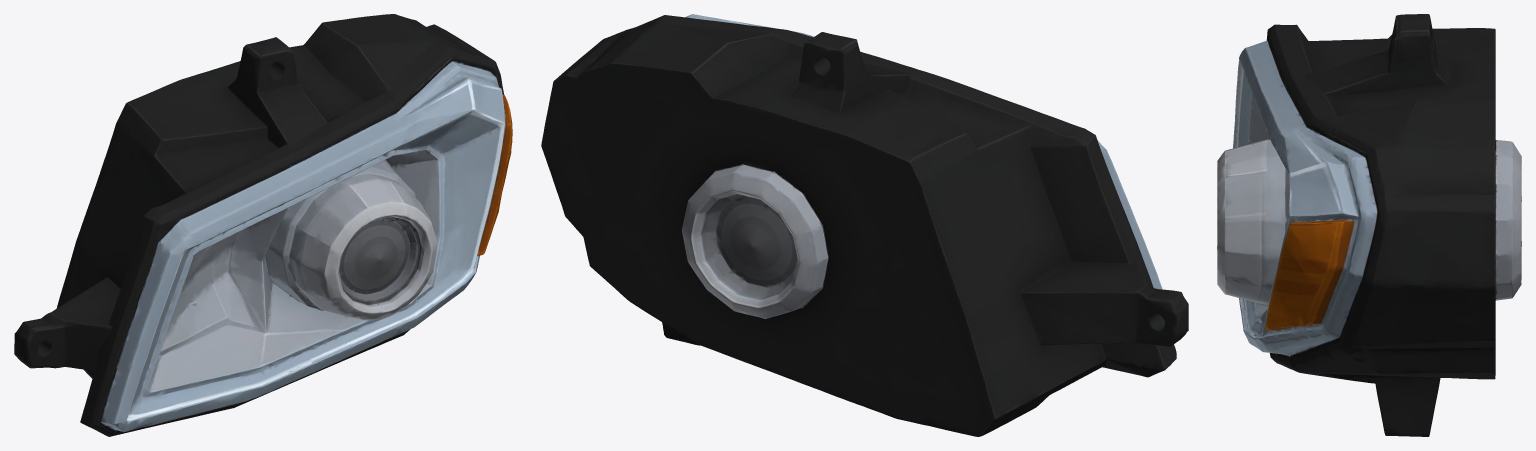
The model's file is headlight_1k_real.glb.
3 renders of one model, left to right at view 1: azimuth 30°, elevation 25°; view 2: azimuth 150°, elevation 25°; view 3: azimuth 270°, elevation 25°, orthographic. The views are drawn at different scales.
Visible parts, largest first — view 1: tripo_node_4f78ad78-5e46-4cca-8aff-948f0df2abd8; view 2: tripo_node_4f78ad78-5e46-4cca-8aff-948f0df2abd8; view 3: tripo_node_4f78ad78-5e46-4cca-8aff-948f0df2abd8.
Part boxes in pixels (x1,y1,x2,y2): tripo_node_4f78ad78-5e46-4cca-8aff-948f0df2abd8: [14, 14, 512, 436]; tripo_node_4f78ad78-5e46-4cca-8aff-948f0df2abd8: [541, 14, 1188, 436]; tripo_node_4f78ad78-5e46-4cca-8aff-948f0df2abd8: [1217, 14, 1521, 436].
Bounding box in the file's own units: 1 × 0.5601 × 0.4593.
1 material, 1 textured.
